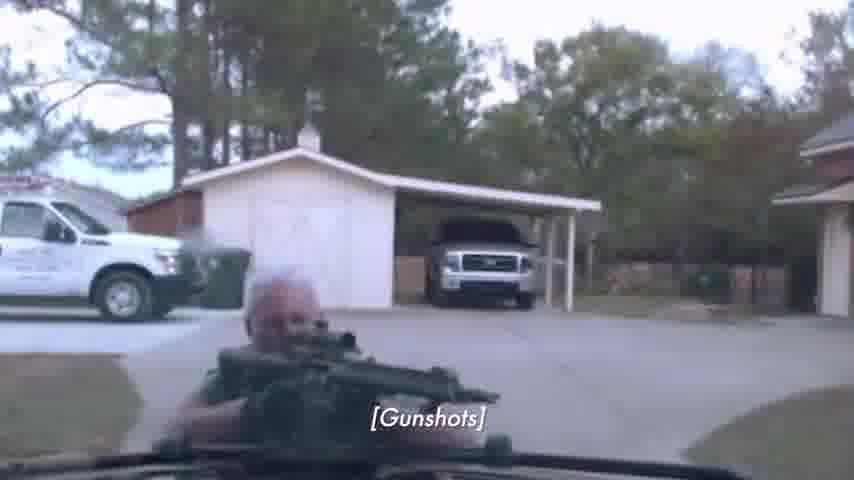person: (171, 261, 349, 440)
rifle: (218, 346, 506, 405)
rifle in hand: (175, 338, 523, 438)
